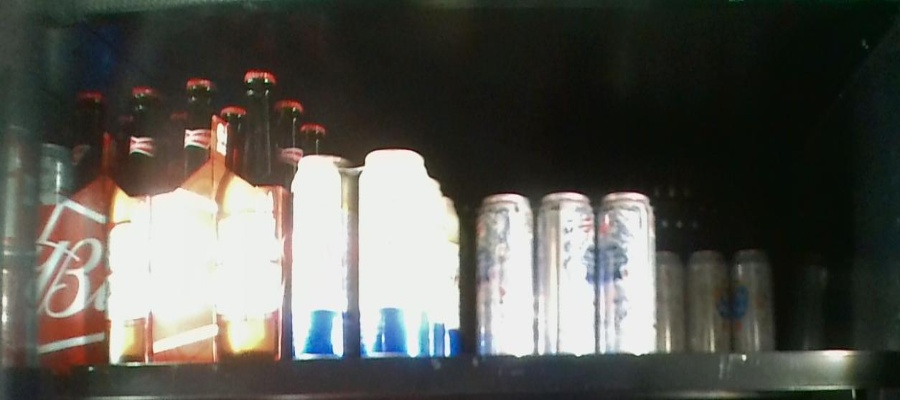bottle: (156, 75, 287, 365), (37, 79, 156, 369), (291, 152, 436, 360), (472, 191, 654, 347), (658, 247, 777, 355)
